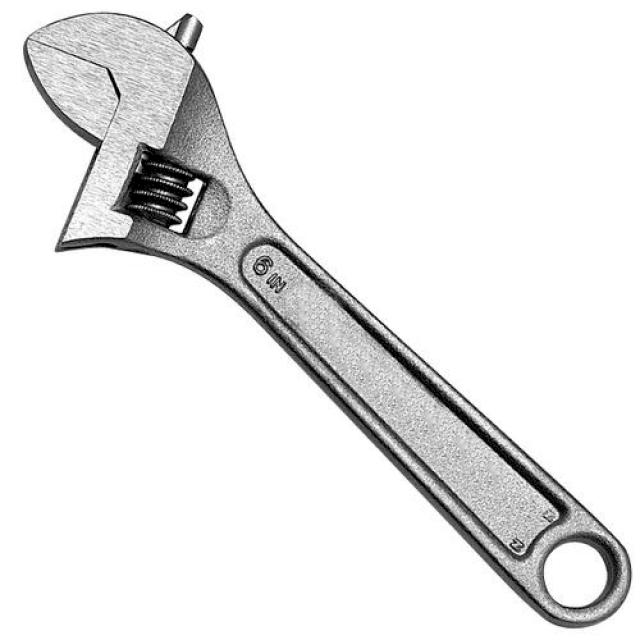wrench: (1, 0, 497, 458)
